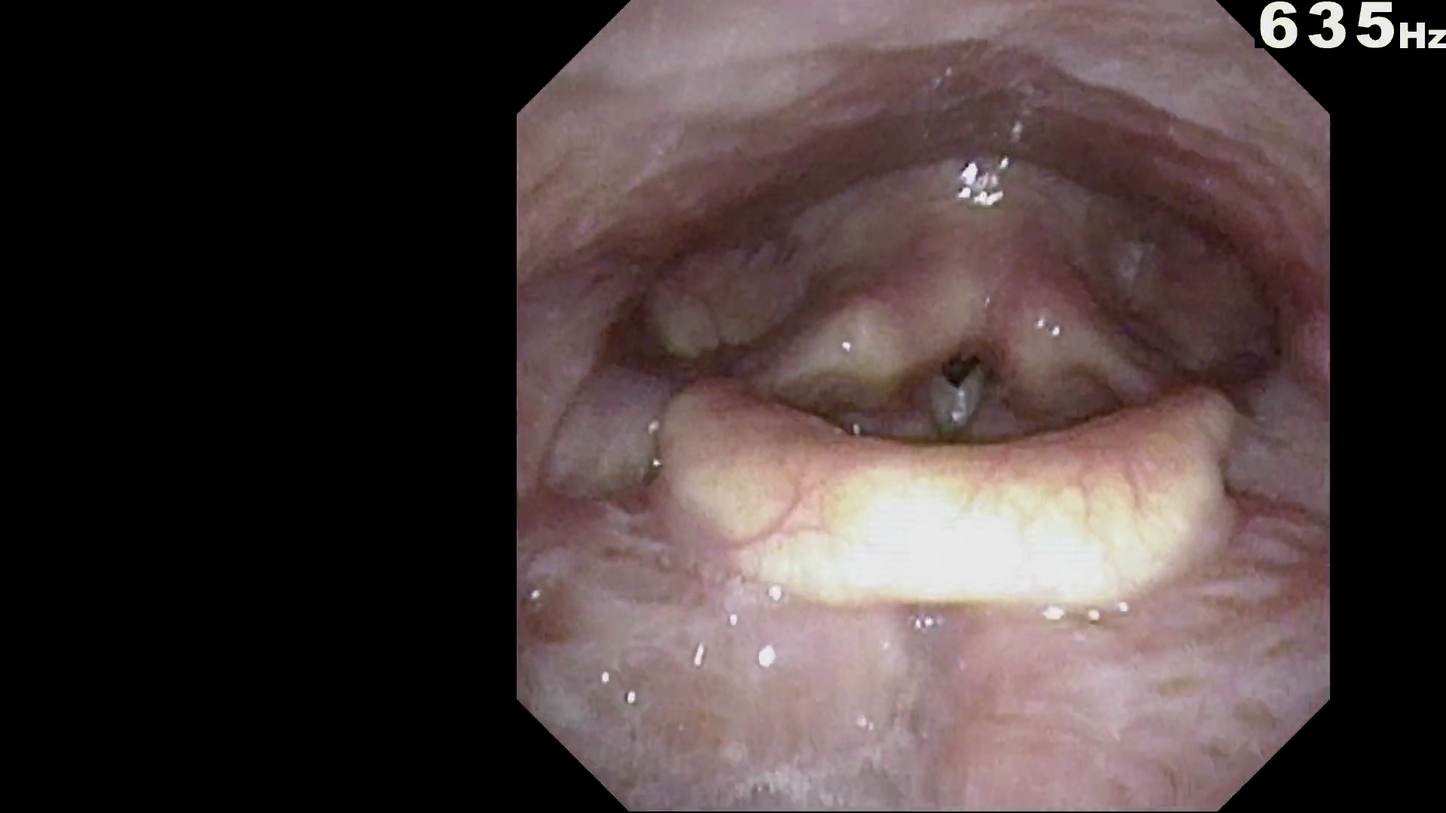epiglottis: (653, 390, 1239, 629)
trachea: (911, 330, 1002, 454)
